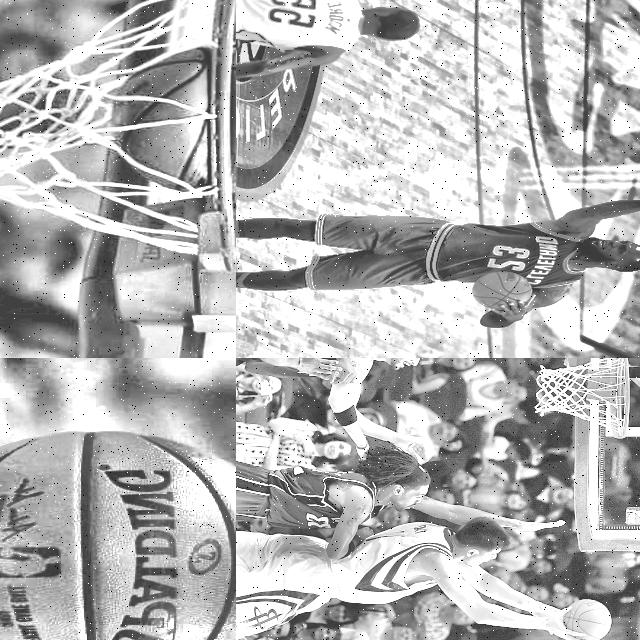Basketball: (0, 431, 236, 640), (120, 121, 208, 186), (118, 48, 207, 110), (473, 271, 532, 309), (114, 100, 195, 125), (563, 600, 611, 640)
